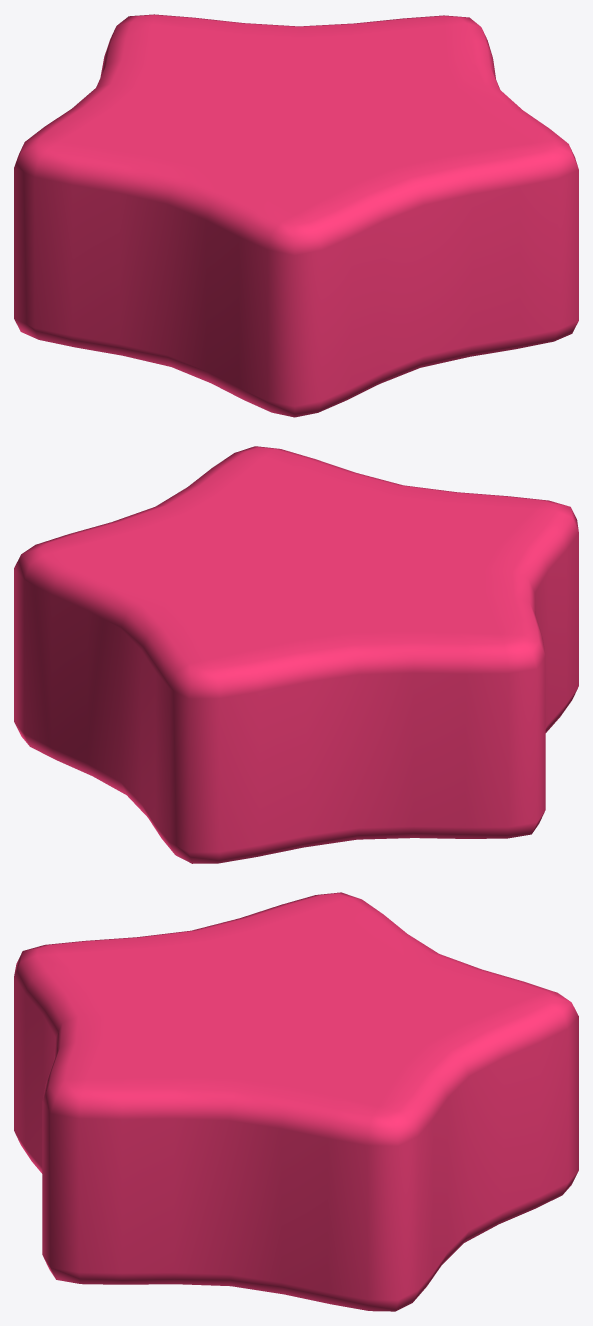
Rendered from Store_9_Pouf_Star_2.glb.
The picture shows the model from 3 angles, top to bottom: view 1: azimuth 30°, elevation 25°; view 2: azimuth 150°, elevation 25°; view 3: azimuth 270°, elevation 25°; orthographic projection.
Parts seen in each view (by area): view 1: Store_9_Pouf_Star_2; view 2: Store_9_Pouf_Star_2; view 3: Store_9_Pouf_Star_2.
Part boxes in pixels (<box>): Store_9_Pouf_Star_2: <box>14,14,578,417</box>; Store_9_Pouf_Star_2: <box>14,446,578,863</box>; Store_9_Pouf_Star_2: <box>14,892,578,1311</box>.
Size of the model in its own units: 0.7384 by 0.2765 by 0.7275.
1 material, 1 textured.
